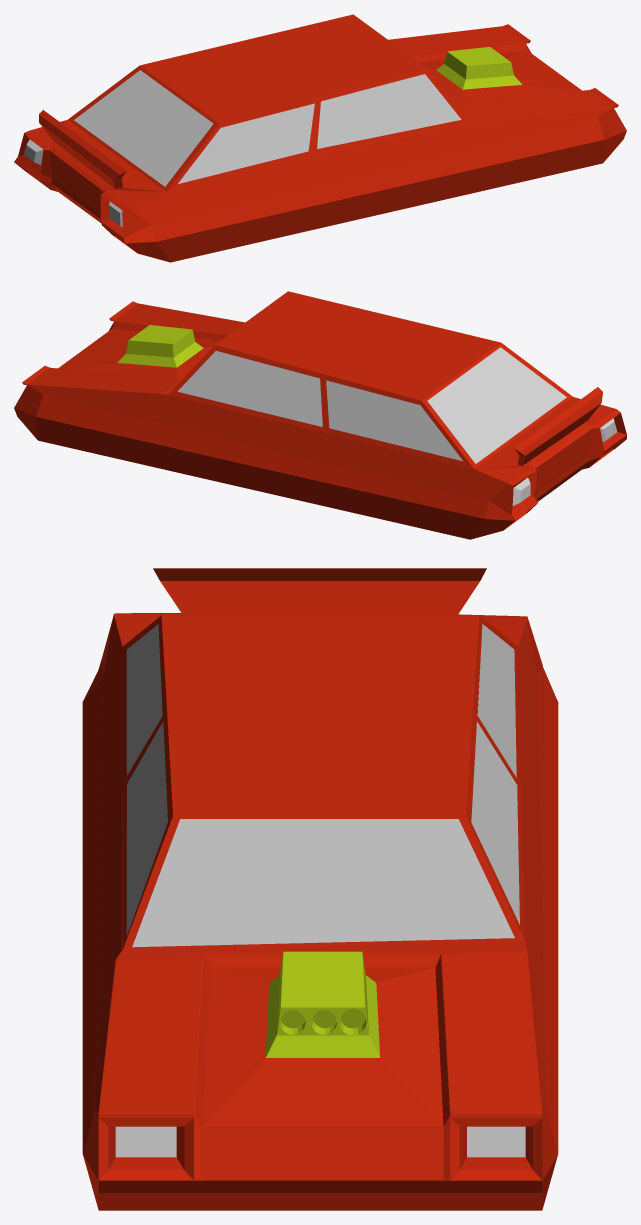
File: CARRO_FINAL.dae
3 views of the same model, one above another, from view 1: azimuth 30°, elevation 25°; view 2: azimuth 150°, elevation 25°; view 3: azimuth 270°, elevation 25° (orthographic). The views are drawn at different scales.
Parts seen in each view (by area): view 1: Cube.002_Cube.003 (×4); view 2: Cube.002_Cube.003 (×4); view 3: Cube.002_Cube.003 (×4).
Boxes of the visible parts, box(x1,y1,x2,y2) form: Cube.002_Cube.003 (×4): box(14, 14, 626, 262); Cube.002_Cube.003 (×4): box(14, 291, 626, 539); Cube.002_Cube.003 (×4): box(82, 568, 558, 1210).
Size of the model in its own units: 5.24 by 1.2 by 2.14.
